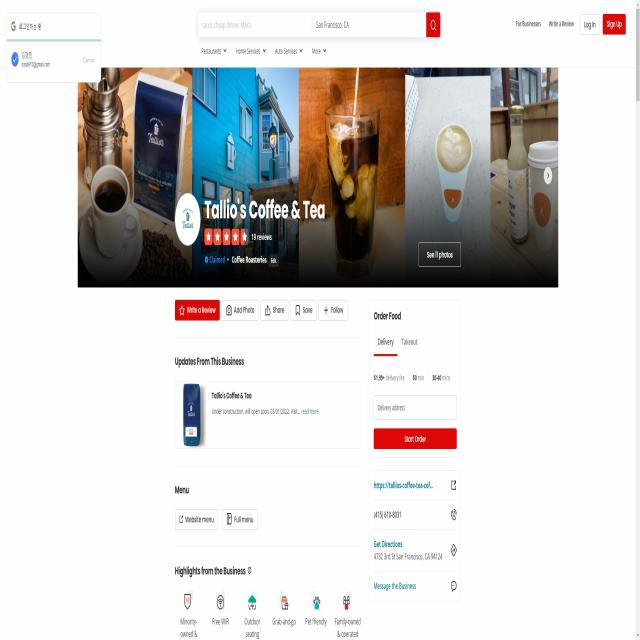menu-bar: (514, 14, 628, 36)
search: (196, 8, 442, 41)
side-panel: (369, 296, 463, 606)
tab-bar: (172, 296, 350, 326), (198, 42, 328, 62), (173, 509, 261, 534)
